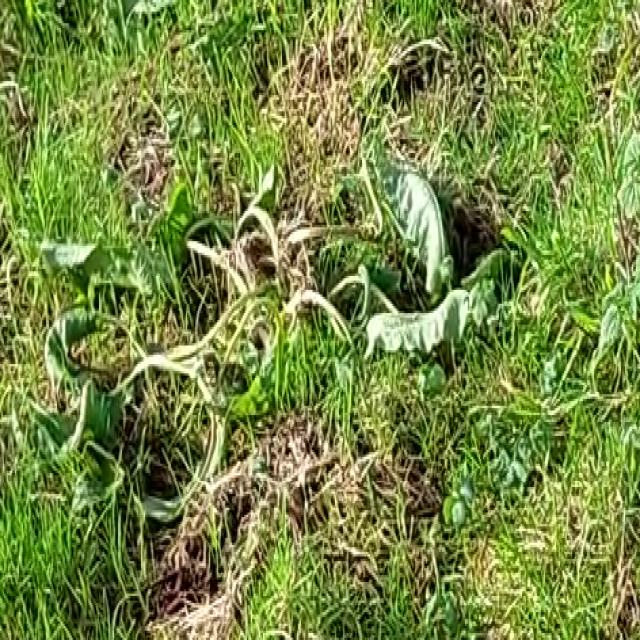organic waste: (33, 137, 530, 573)
